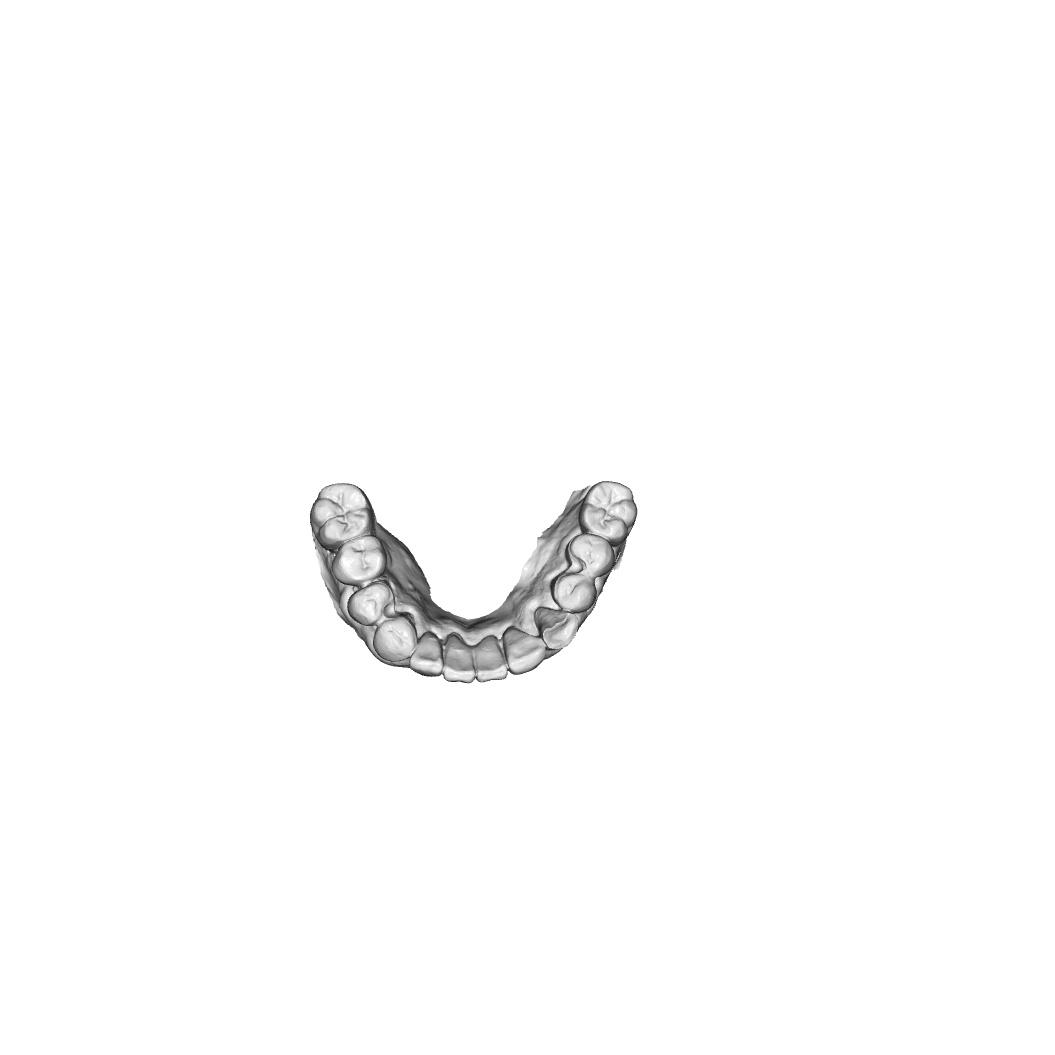canine: (372, 611, 417, 662), (533, 606, 580, 651)
incisor: (502, 625, 546, 677), (442, 632, 476, 684), (473, 634, 509, 683), (408, 630, 444, 678)
molar: (309, 483, 377, 554), (578, 479, 638, 548)
premolar: (331, 535, 387, 586), (346, 579, 396, 627), (565, 532, 615, 578), (550, 569, 598, 615)
